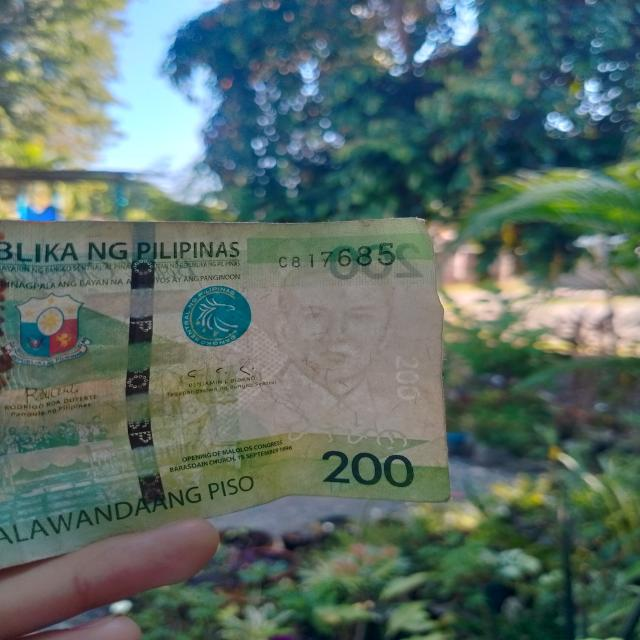security_thread: (130, 222, 169, 524)
see_through_mark: (276, 418, 427, 452)
value_watermark: (383, 352, 426, 406)
watermark: (237, 258, 397, 422)
